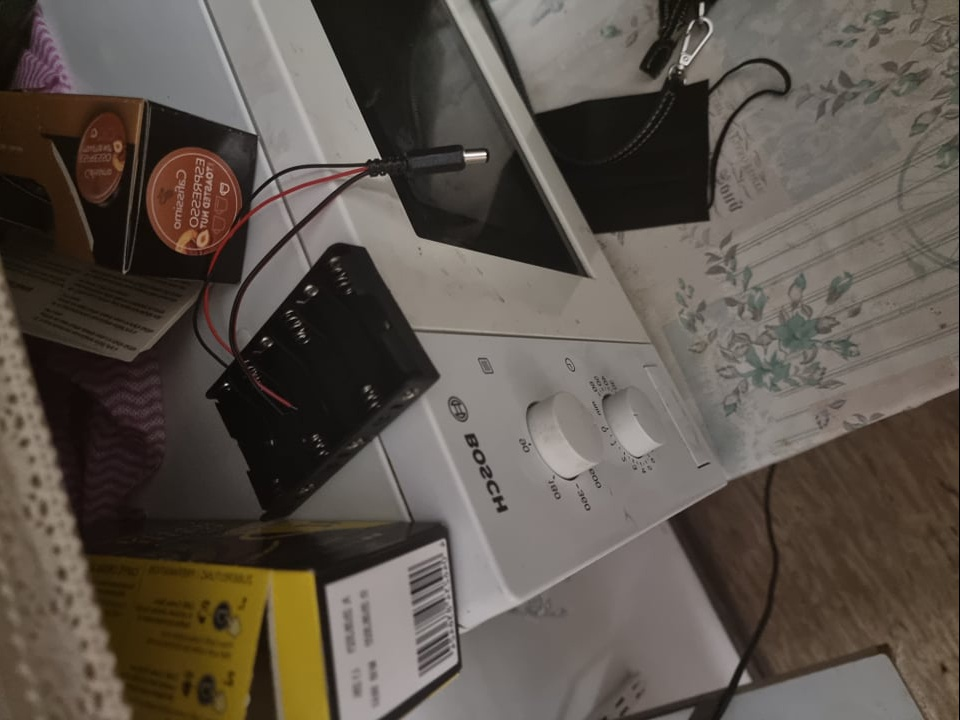BATTERY BOX: (205, 245, 441, 519)
